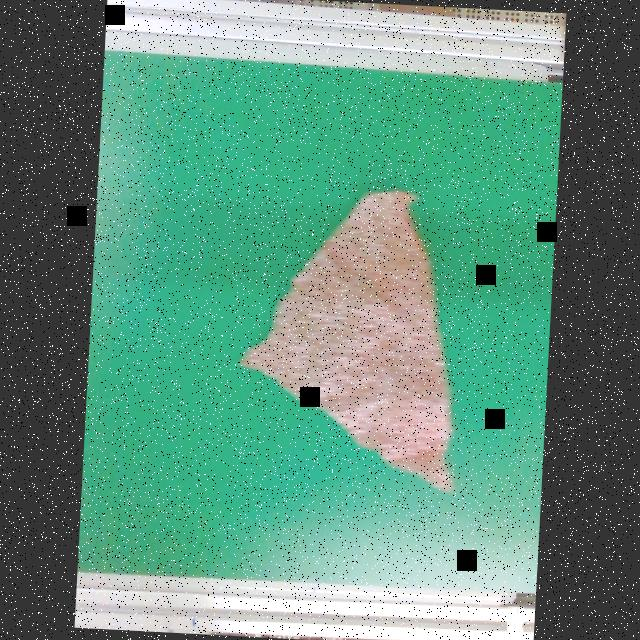scrap_plastic: (230, 182, 468, 490)
